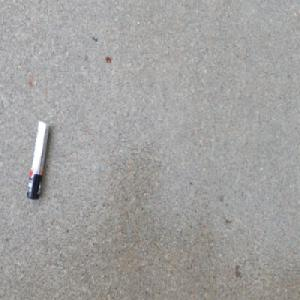Battery: (26, 118, 51, 202)
